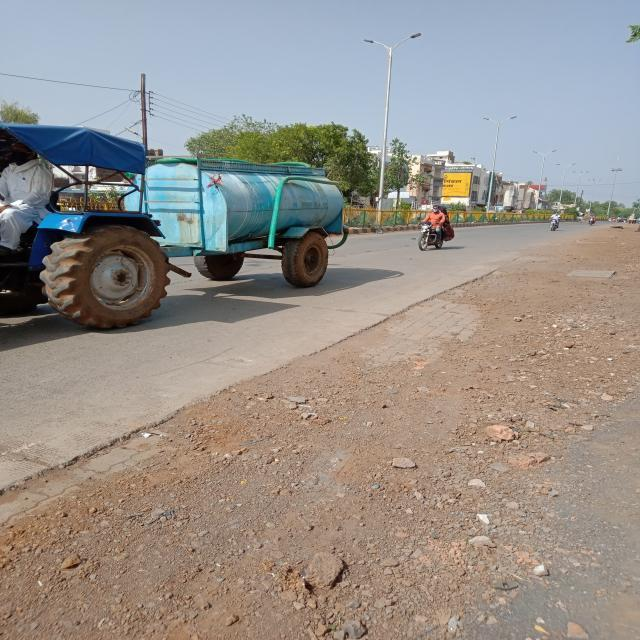tractor_front: (0, 115, 357, 338)
two_wheeler_front: (414, 216, 457, 254)
